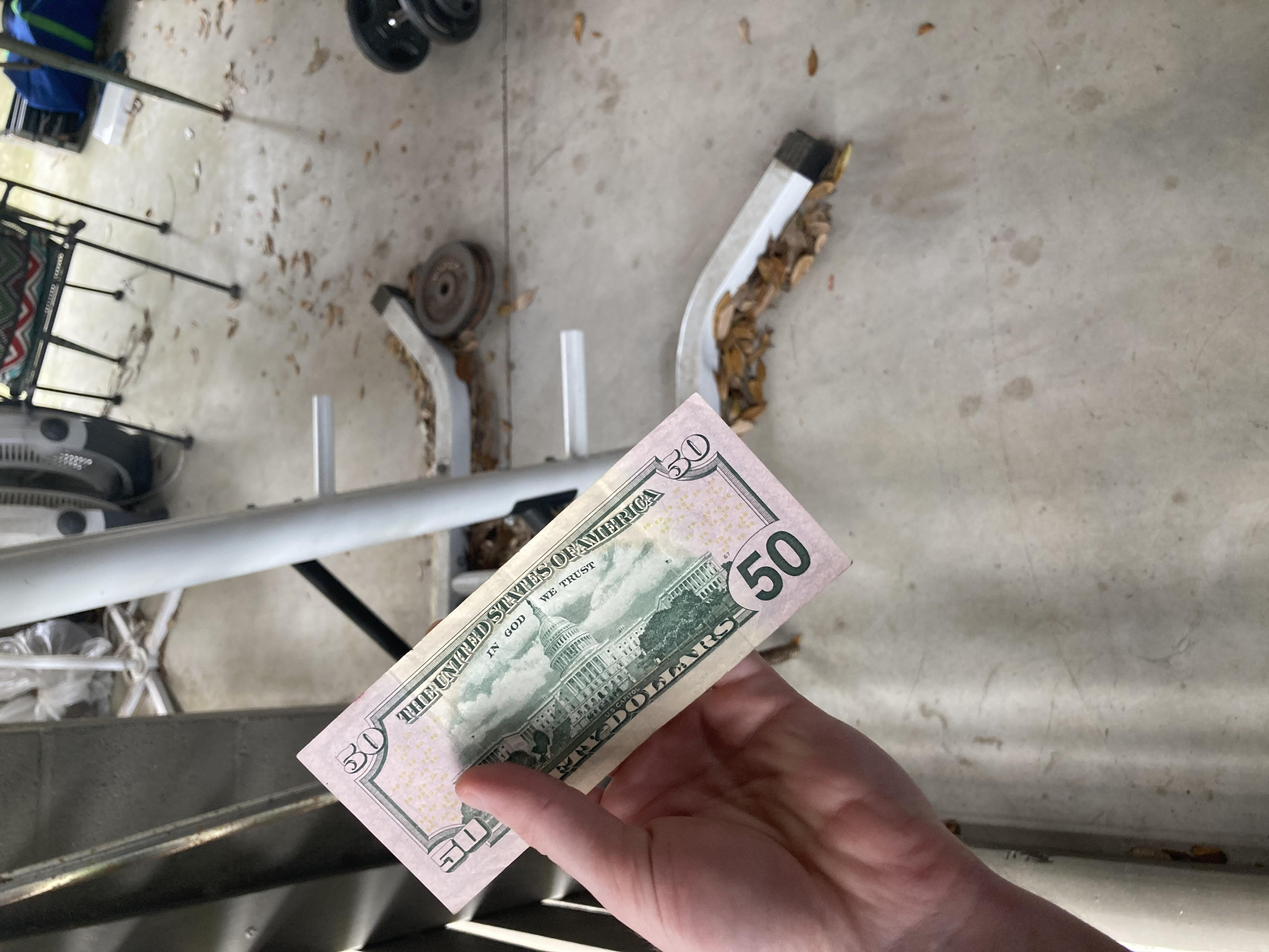fifty-back: (50, 220, 745, 641)
